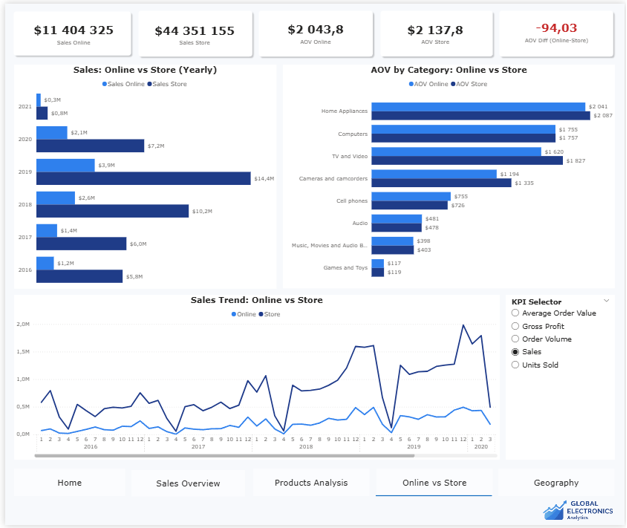

The page's visual inventory and layout, read from the dashboard file:
{"tool":"powerbi","page":{"name":"Online vs Store","canvas":[1390,1170],"ordinal":3},"visuals":[{"type":"shape","box":[292.3,8.5,269.8,117.3],"z":0,"group":"g2"},{"type":"shape","box":[562.1,8.5,270.2,117.3],"z":0,"group":"g3"},{"type":"shape","box":[834.4,8.9,266.2,117],"z":0,"group":"g4"},{"type":"shape","box":[12.2,9.4,277.6,113.3],"z":0,"group":"g1"},{"type":"lineChart","title":"Sales Trend: Online vs Store","fields":{"Category":["DimCalendar.Year","DimCalendar.MonthNumber"],"Series":["DimStores.Channel"],"Y":["_Measure.Selected Metric Value"]},"box":[20.2,653.5,1089.7,370.4],"z":0,"group":"g7"},{"type":"shape","box":[1101.7,8.9,269.8,117.3],"z":500,"group":"g5"},{"type":"card","fields":{"Values":["_Measure.AOV Diff (Online-Store)"]},"box":[1123.8,14.4,228.7,97.5],"z":1000,"group":"g5"},{"type":"card","fields":{"Values":["_Measure.Sales USD Online"]},"box":[36.3,20.7,237.4,91.3],"z":1000,"group":"g1"},{"type":"clusteredBarChart","title":"Sales: Online vs Store (Yearly)","fields":{"Category":["DimCalendar.Year","DimCalendar.MonthNumber"],"Y":["_Measure.Sales Online","_Measure.Sales Store"]},"box":[20.1,137.1,589.2,503],"z":1000,"group":"g7"},{"type":"card","fields":{"Values":["_Measure.Sales USD Store"]},"box":[307.3,21.2,237.1,93.3],"z":2000,"group":"g2"},{"type":"slicer","fields":{"Values":["Metric Selector.Metric"]},"box":[1123.1,653.4,245.2,370.4],"z":2000,"group":"g7"},{"type":"card","fields":{"Values":["_Measure.AOV USD Online"]},"box":[601.5,18.8,189.8,93.5],"z":4000,"group":"g3"},{"type":"clusteredBarChart","title":"AOV by Category: Online vs Store","fields":{"Category":["DimCategory.Category"],"Y":["_Measure.AOV USD Online","_Measure.AOV USD Store"]},"box":[623.4,136.7,745,502.3],"z":4000,"group":"g7"},{"type":"card","fields":{"Values":["_Measure.AOV USD Store"]},"box":[857.8,24.4,213.8,86.2],"z":5000,"group":"g4"},{"type":"image","box":[1204.3,1105,163.8,65],"z":5000,"group":"g7"},{"type":"group","id":"g1","title":"Group 2","box":[12.2,9.4,277.6,113.3],"z":6000,"group":"g7"},{"type":"group","id":"g2","title":"Group 3","box":[292.3,8.5,271,117.3],"z":7000,"group":"g7"},{"type":"group","id":"g3","title":"Group 4","box":[562.1,8.5,269.8,117.3],"z":8000,"group":"g7"},{"type":"group","id":"g4","title":"Group 5","box":[834.4,8.9,266.2,117],"z":9000,"group":"g7"},{"type":"group","id":"g5","title":"Group 6","box":[1101.7,8.9,269.4,117],"z":10000,"group":"g7"},{"type":"group","id":"g6","title":"Group 1","box":[20.2,1042.8,1346.8,62],"z":11000,"group":"g7"},{"type":"shape","box":[832.3,1093.7,260.9,21.6],"z":12000,"group":"g7"},{"type":"actionButton","box":[283.3,1046.1,254.9,59],"z":16000,"group":"g6"},{"type":"group","id":"g7","title":"Group 7","box":[8.3,0,1373.3,1170],"z":16001},{"type":"actionButton","box":[20.2,1042.8,249.6,61.9],"z":17000,"group":"g6"},{"type":"actionButton","box":[557.1,1042.8,260.7,61.9],"z":19000,"group":"g6"},{"type":"actionButton","box":[1106.8,1042.8,260.7,61.9],"z":20000,"group":"g6"},{"type":"actionButton","box":[832.7,1042.8,260.7,61.9],"z":21000,"group":"g6"}]}

Visuals, with their boxes in screenshot pixels (x1, y1, x2, y2), scaled from the page's 1390x1170 canvas onto the 627x528 screenshot:
shape: BBox(132, 4, 254, 57)
shape: BBox(254, 4, 375, 57)
shape: BBox(376, 4, 496, 57)
shape: BBox(6, 4, 131, 55)
"Sales Trend: Online vs Store" lineChart: BBox(9, 295, 501, 462)
shape: BBox(497, 4, 619, 57)
card - _Measure.AOV Diff (Online-Store): BBox(507, 6, 610, 50)
card - _Measure.Sales USD Online: BBox(16, 9, 123, 51)
"Sales: Online vs Store (Yearly)" clusteredBarChart: BBox(9, 62, 275, 289)
card - _Measure.Sales USD Store: BBox(139, 10, 246, 52)
slicer - Metric Selector.Metric: BBox(507, 295, 617, 462)
card - _Measure.AOV USD Online: BBox(271, 8, 357, 51)
"AOV by Category: Online vs Store" clusteredBarChart: BBox(281, 62, 617, 288)
card - _Measure.AOV USD Store: BBox(387, 11, 483, 50)
image: BBox(543, 499, 617, 527)
"Group 2" group: BBox(6, 4, 131, 55)
"Group 3" group: BBox(132, 4, 254, 57)
"Group 4" group: BBox(254, 4, 375, 57)
"Group 5" group: BBox(376, 4, 496, 57)
"Group 6" group: BBox(497, 4, 618, 57)
"Group 1" group: BBox(9, 471, 617, 499)
shape: BBox(375, 494, 493, 503)
actionButton: BBox(128, 472, 243, 499)
"Group 7" group: BBox(4, 0, 623, 527)
actionButton: BBox(9, 471, 122, 499)
actionButton: BBox(251, 471, 369, 499)
actionButton: BBox(499, 471, 617, 499)
actionButton: BBox(376, 471, 493, 499)
